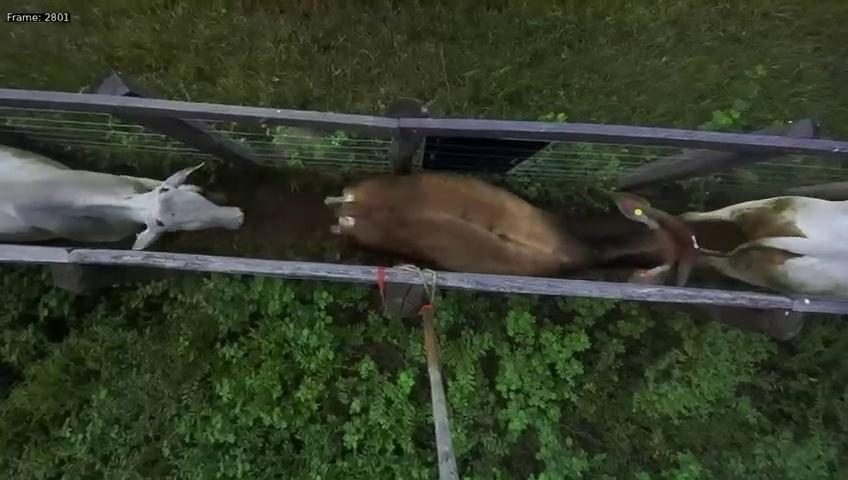cattle: (317, 160, 711, 296), (0, 128, 254, 256)
